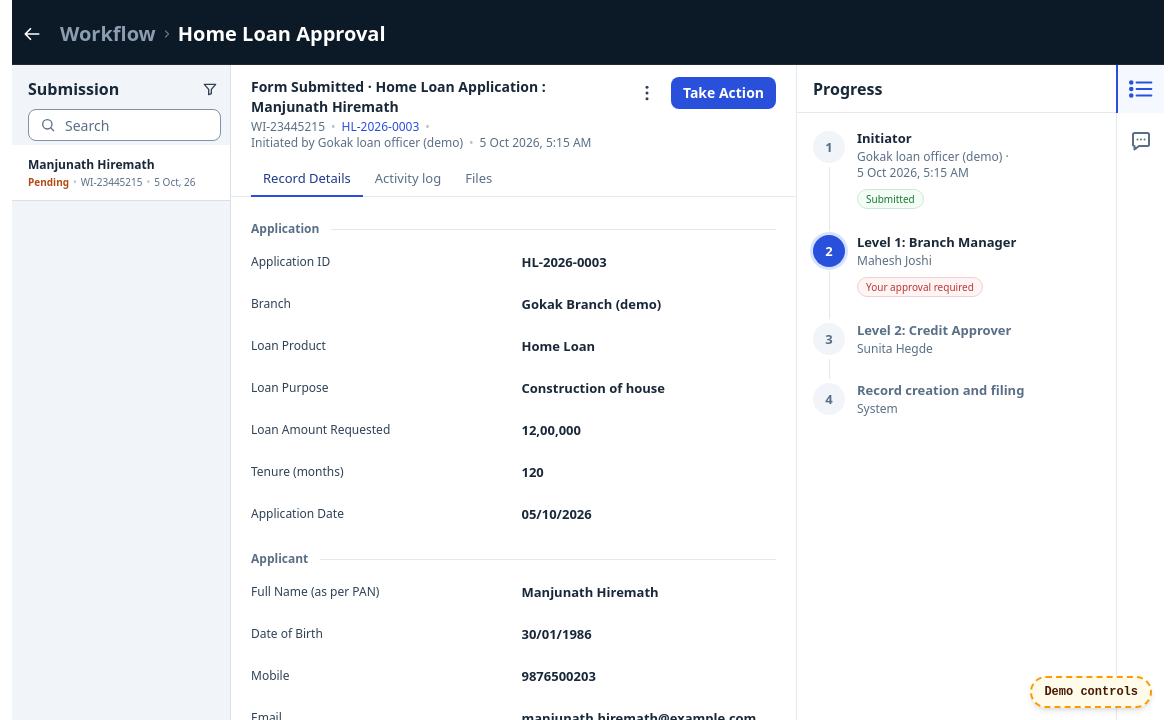
Test case: the page › goes back to /workflow, inside the shell, from the arrow
The width and height of the screenshot is (1176, 720).
Click the link named "Back to Workflow" at (32, 34), box [23,25,41,43]
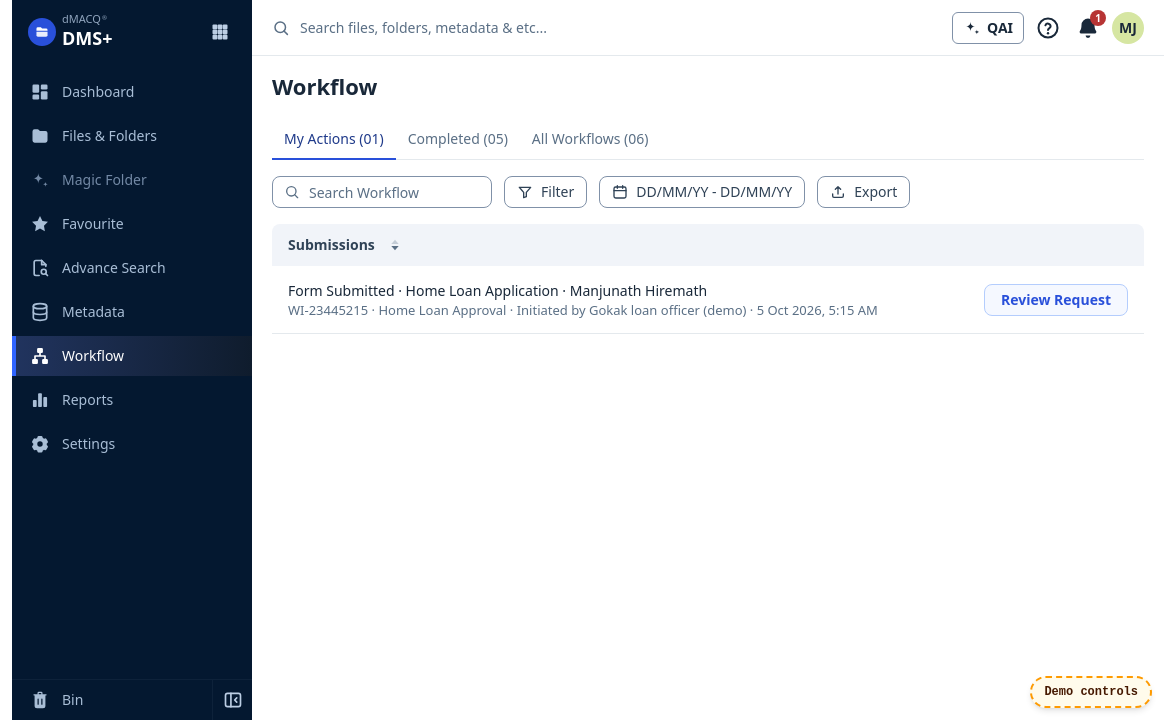
Expected: the heading "Workflow" is shown, [272,72,377,100]
Expected: the element named "Sidebar" is shown, [12,0,252,719]
